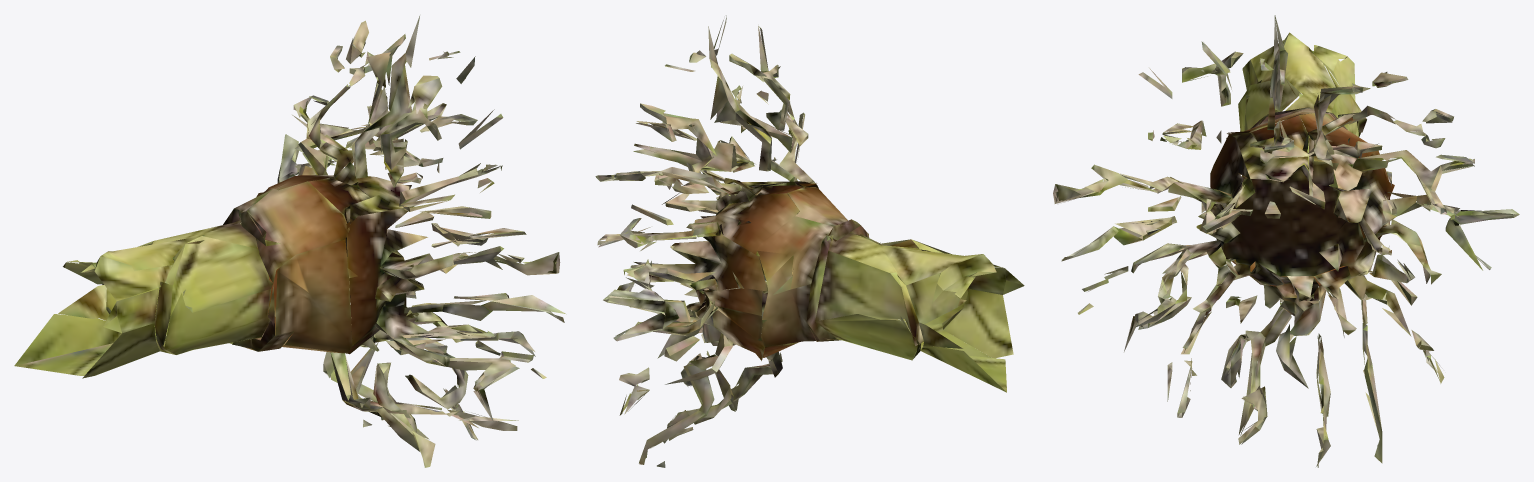
Rendered from turtle-s02-plant-roots.glb.
3 views of the same model, side by side, from view 1: azimuth 30°, elevation 25°; view 2: azimuth 150°, elevation 25°; view 3: azimuth 270°, elevation 25° (orthographic). The views are drawn at different scales.
Visible parts, largest first — view 1: Mesh_0; view 2: Mesh_0; view 3: Mesh_0.
Boxes of the visible parts, x1=… form: Mesh_0: x1=14, y1=16, x2=566, y2=467; Mesh_0: x1=595, y1=15, x2=1024, y2=467; Mesh_0: x1=1053, y1=15, x2=1519, y2=467.
Size of the model in its own units: 0.0543 by 0.0556 by 0.0533.
1 material, 1 textured.
